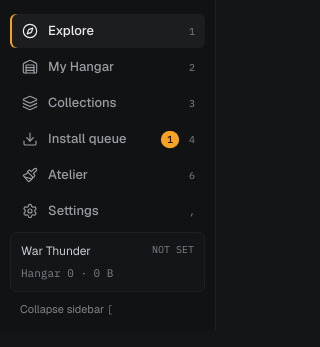
Scenario: Sidebar › collapses to an icon rail that keeps accessible names, and expands again
Expected: the text "NOT SET" is shown, left=152, top=243, right=194, bottom=260
Click the button "Collapse sidebar [" at {"x": 108, "y": 306}, box left=10, top=294, right=205, bottom=318
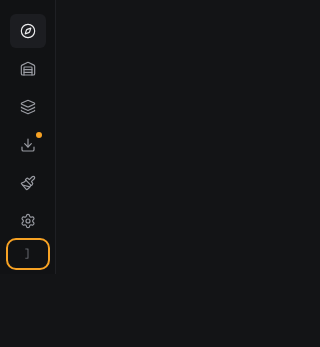
Result: the text "War Thunder" is gone
Result: the text "1" is gone
Result: the text "2" is gone
Click the button named "Expand sidebar" at {"x": 28, "y": 254}, box left=10, top=242, right=46, bottom=266
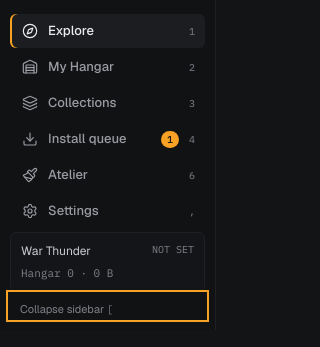
Result: the text "NOT SET" is shown at left=152, top=243, right=194, bottom=260
